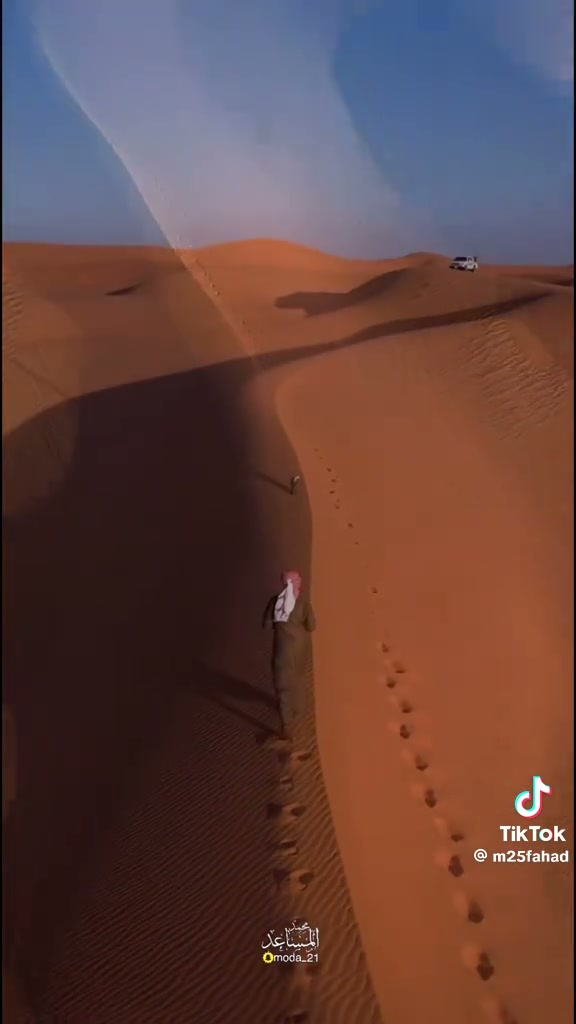human_footprint: (266, 796, 313, 898), (378, 641, 414, 738), (378, 641, 413, 715), (279, 959, 320, 1021), (278, 963, 318, 1020), (381, 673, 415, 740), (435, 818, 464, 877), (461, 943, 495, 981), (400, 733, 430, 773), (462, 944, 494, 981), (385, 677, 414, 715), (290, 962, 319, 1000), (463, 945, 494, 979), (274, 867, 313, 894), (377, 641, 407, 676), (376, 641, 407, 674), (453, 891, 484, 923), (482, 997, 519, 1023), (433, 816, 465, 845), (266, 802, 305, 824), (435, 849, 464, 878), (256, 731, 292, 753), (436, 850, 463, 877), (412, 785, 439, 809), (387, 690, 413, 714), (402, 750, 429, 772), (278, 748, 310, 766), (326, 467, 339, 509), (272, 839, 297, 858), (276, 1009, 309, 1023), (466, 899, 484, 923), (378, 671, 400, 689), (392, 723, 413, 740), (448, 854, 463, 877), (423, 787, 437, 808), (278, 775, 293, 792), (381, 673, 398, 688), (390, 659, 406, 674), (325, 465, 337, 483), (449, 827, 463, 842), (399, 699, 413, 714), (290, 475, 300, 494), (377, 641, 389, 654), (314, 447, 321, 458), (370, 586, 378, 595), (334, 500, 341, 510), (329, 489, 336, 496), (347, 522, 353, 528), (331, 478, 337, 484), (326, 466, 331, 472), (354, 540, 359, 545)
